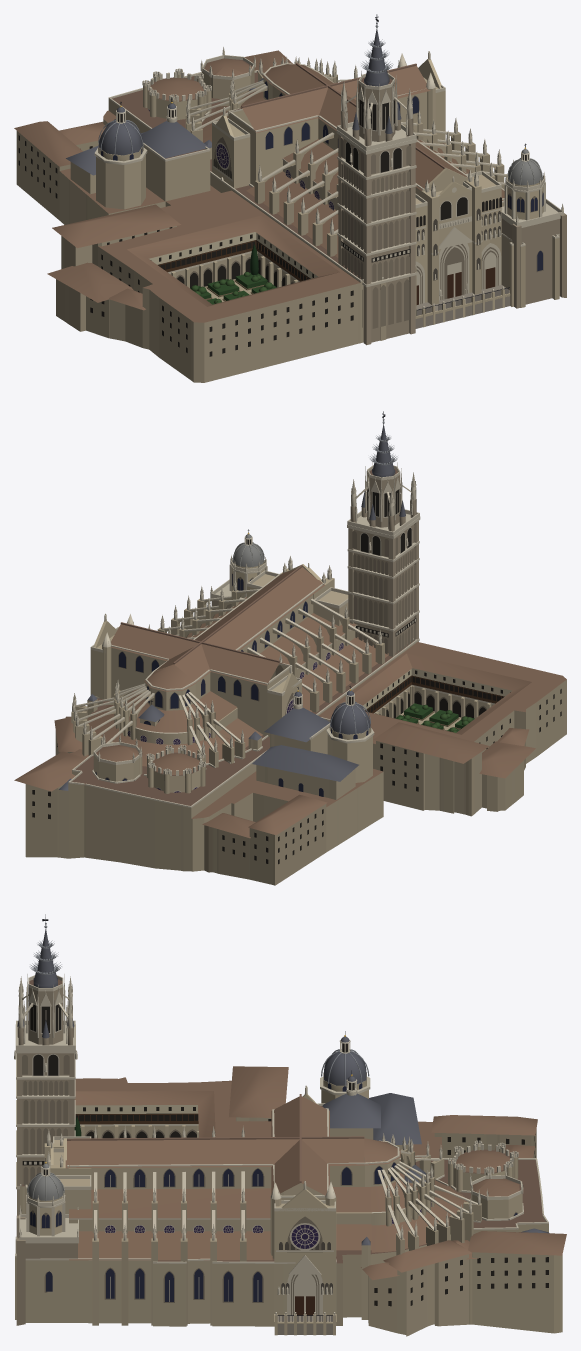
3 renders of one model, top to bottom at view 1: azimuth 30°, elevation 25°; view 2: azimuth 150°, elevation 25°; view 3: azimuth 270°, elevation 25°, orthographic. The views are drawn at different scales.
Visible parts, largest first — view 1: stone, roofs, decor, tower, slate, garden, metal, glass, statues; view 2: stone, roofs, decor, tower, slate, glass, garden, metal; view 3: stone, roofs, decor, slate, tower, glass, metal.
Part boxes in pixels (<box>): stone: <box>16,47,566,382</box>; roofs: <box>14,50,555,322</box>; decor: <box>18,81,543,356</box>; tower: <box>336,69,417,345</box>; slate: <box>66,29,542,185</box>; garden: <box>190,244,276,304</box>; metal: <box>241,14,509,315</box>; glass: <box>101,81,543,271</box>; statues: <box>223,51,504,308</box>; stone: <box>25,555,566,885</box>; roofs: <box>14,567,566,838</box>; decor: <box>32,489,561,864</box>; tower: <box>347,462,420,656</box>; slate: <box>58,425,405,790</box>; glass: <box>95,574,368,796</box>; garden: <box>395,703,474,732</box>; metal: <box>120,411,397,704</box>; stone: <box>15,1073,562,1336</box>; roofs: <box>21,1066,566,1280</box>; decor: <box>22,1003,548,1315</box>; slate: <box>17,930,549,1245</box>; tower: <box>15,974,75,1215</box>; glass: <box>30,1083,517,1301</box>; metal: <box>29,914,415,1321</box>.
Bounding box in the file's own units: 136 × 103 × 148.
